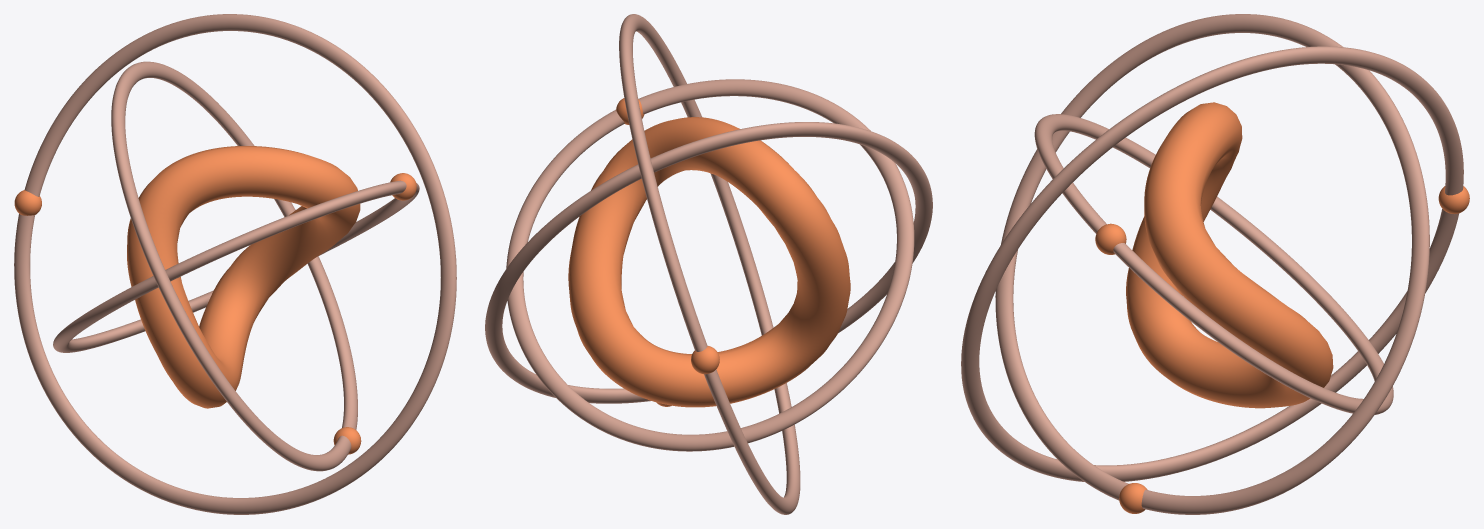
3 views of the same model, side by side, from view 1: azimuth 30°, elevation 25°; view 2: azimuth 150°, elevation 25°; view 3: azimuth 270°, elevation 25° (orthographic). The views are drawn at different scales.
Size of the model in its own units: 0.9343 by 1.11 by 1.06.
